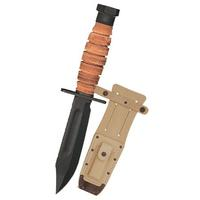knife: (51, 1, 116, 198)
